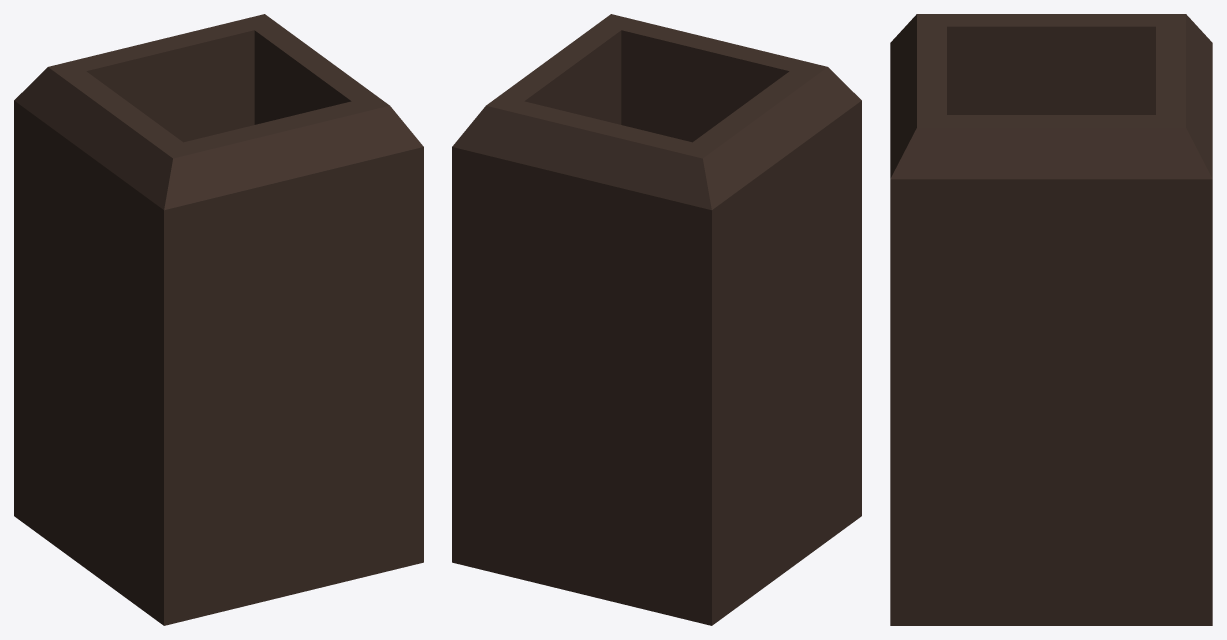
The model's file is Stationery_Box.fbx.
3 renders of one model, left to right at view 1: azimuth 30°, elevation 25°; view 2: azimuth 150°, elevation 25°; view 3: azimuth 270°, elevation 25°, orthographic. The views are drawn at different scales.
Parts seen in each view (by area): view 1: PenCase; view 2: PenCase; view 3: PenCase.
Boxes of the visible parts, x1,y1,x2,y2 form: PenCase: [14, 14, 423, 625]; PenCase: [452, 14, 861, 625]; PenCase: [890, 14, 1212, 625].
Bounding box in the file's own units: 6 × 10 × 6.
